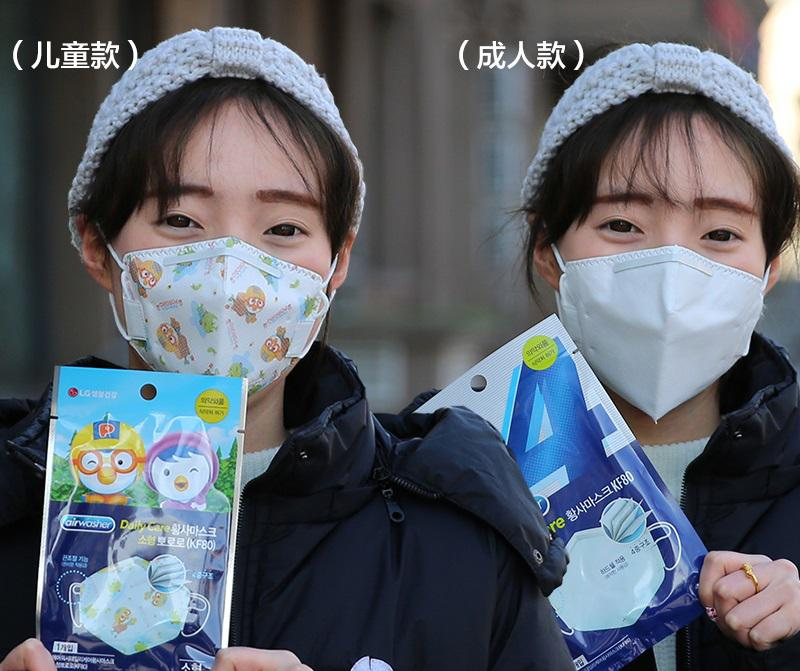OK: (111, 143, 333, 412), (557, 156, 764, 416)
